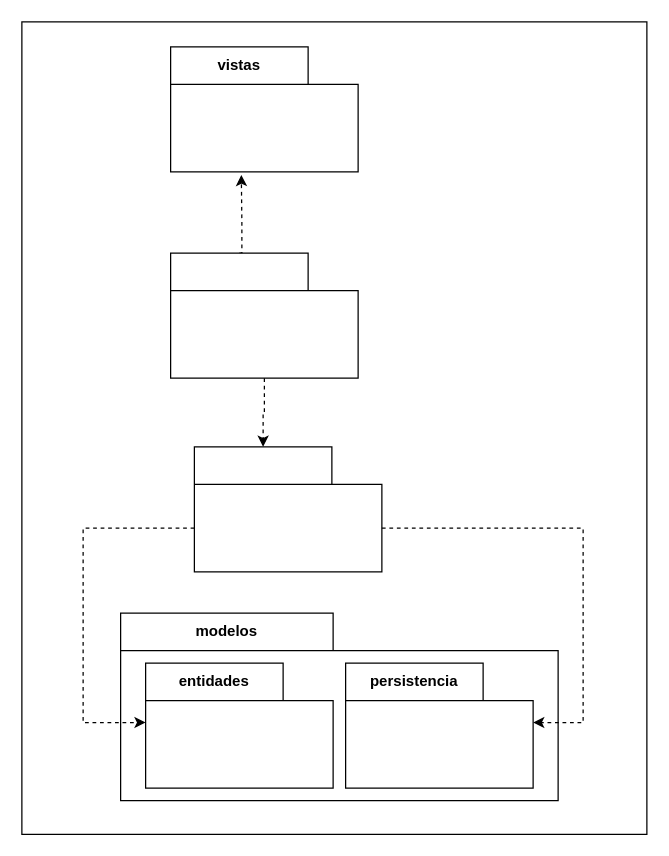
The diagram is 669 pixels wide and 856 high, and some of its shapes have lost their labels. The centre of each missing label's shape, as x and y in pixels:
"controladores" goes at pixel 263 315.
"servicios" goes at pixel 287 509.
